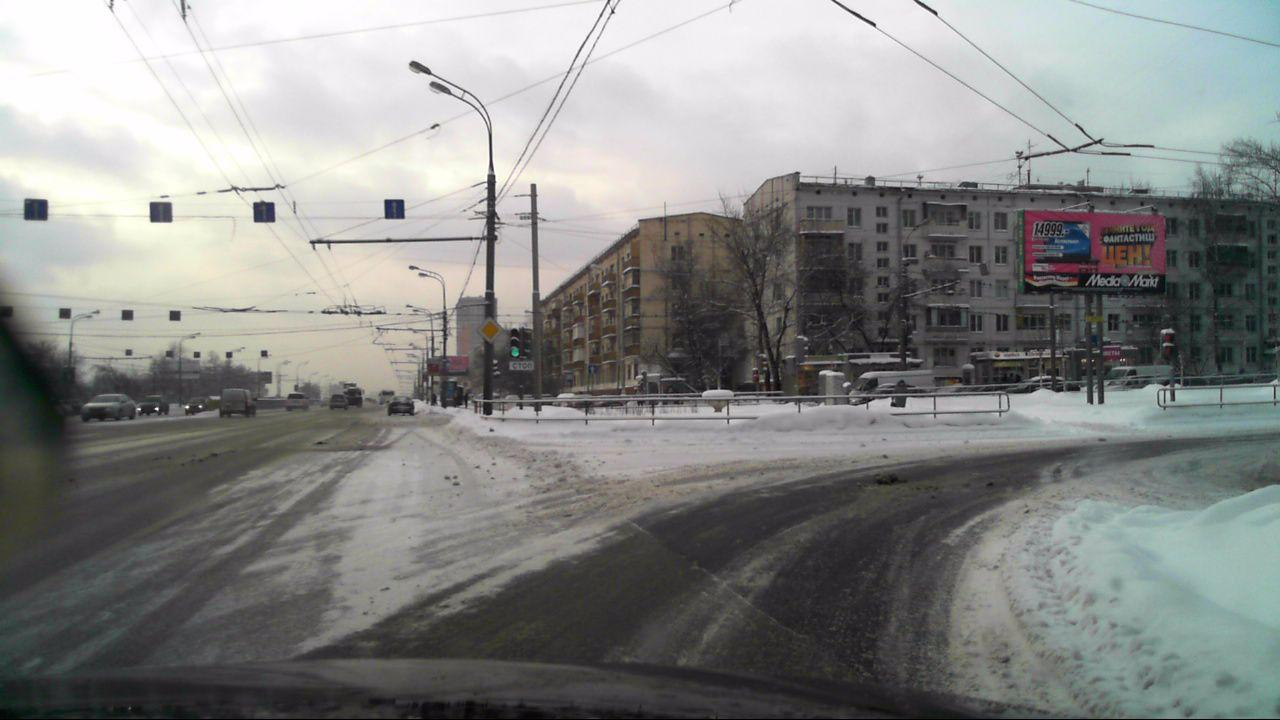2_1: (477, 317, 500, 342)
4_1_1: (588, 363, 599, 373)
5_15_2: (252, 200, 276, 222), (25, 197, 47, 220), (150, 202, 172, 223), (385, 197, 407, 218)
6_16: (509, 361, 536, 372)
